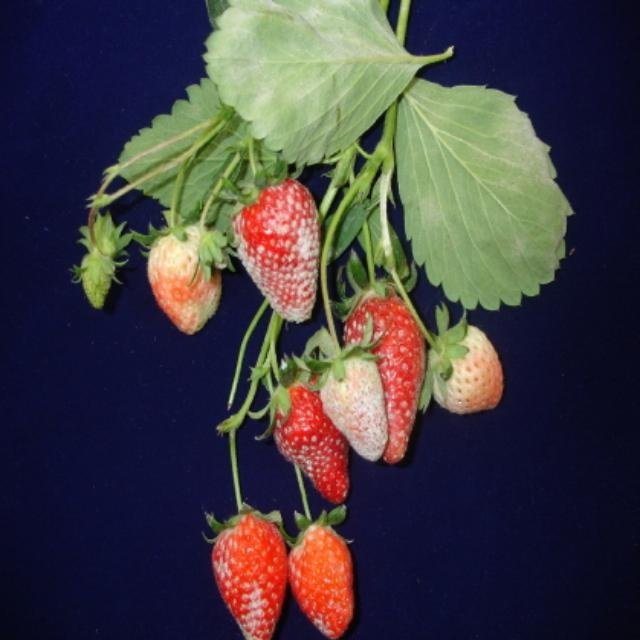Powdery Mildew Fruit: (344, 280, 427, 464), (232, 170, 321, 323), (271, 362, 349, 506), (211, 509, 290, 638), (319, 343, 389, 462), (289, 521, 355, 638)
